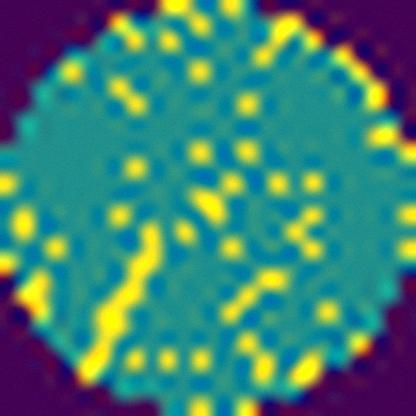Scratch: (67, 216, 174, 378)
